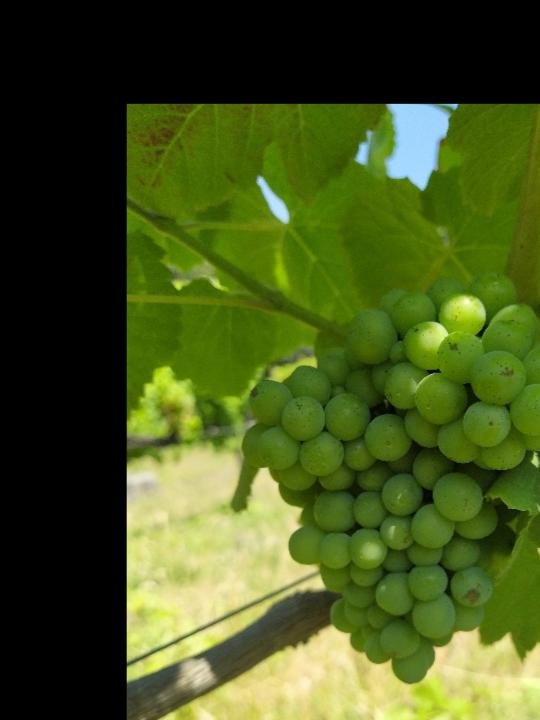grape: (238, 270, 540, 691)
